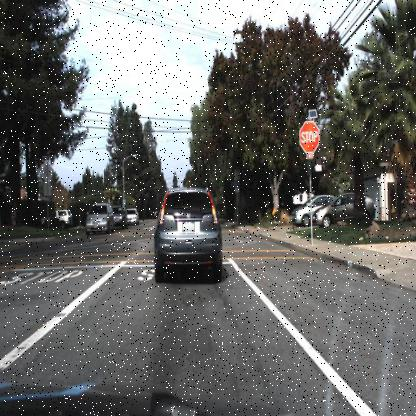car: (147, 172, 228, 298), (310, 188, 384, 234), (290, 192, 330, 228), (83, 197, 115, 240), (286, 196, 314, 234), (50, 204, 73, 228), (114, 200, 129, 231), (124, 202, 141, 229)
